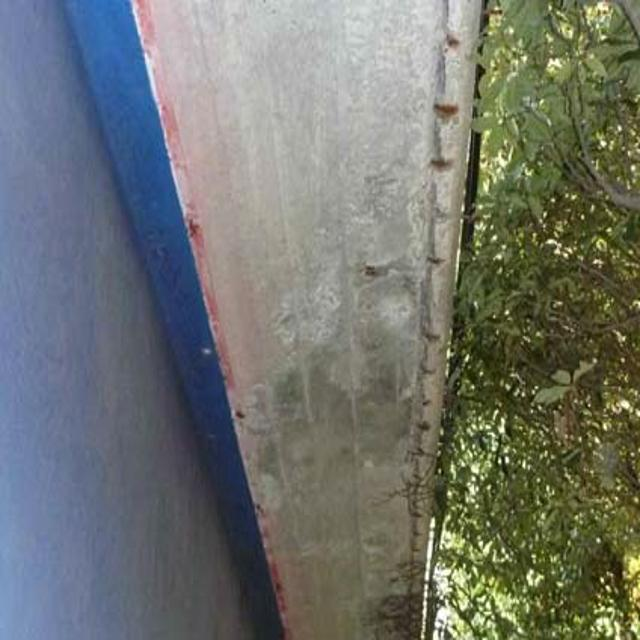spalling: (360, 40, 474, 514), (224, 340, 292, 507)
